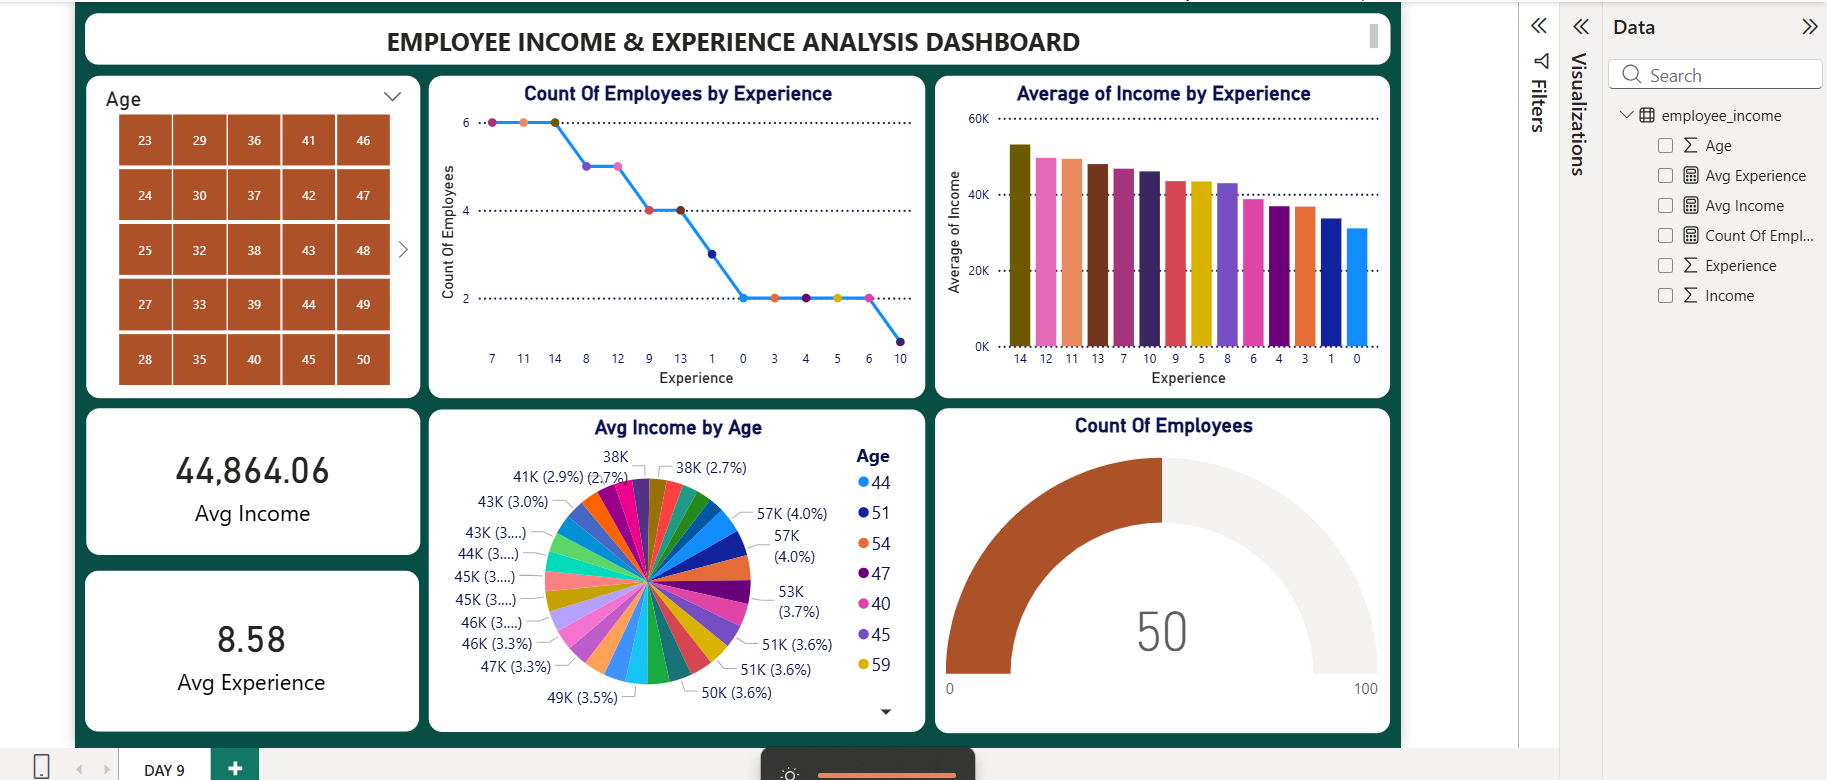

This screenshot's page, from the dashboard's own definition file:
{"tool":"powerbi","page":{"name":"DAY 9","canvas":[1280,720],"ordinal":0},"visuals":[{"type":"card","fields":{"Values":["employee_income.Avg Experience"]},"box":[9.6,548.9,322.5,155.1],"z":0},{"type":"card","fields":{"Values":["employee_income.Avg Income"]},"box":[11,392.5,322.5,141.3],"z":1000},{"type":"pieChart","fields":{"Category":["employee_income.age"],"Y":["employee_income.Avg Income"]},"box":[341.7,393.8,478.9,311.5],"z":2000},{"type":"clusteredColumnChart","fields":{"Y":["Avg(employee_income.income)"],"Category":["employee_income.experience"]},"box":[830.2,71.4,439.1,311.5],"z":3000},{"type":"gauge","fields":{"Y":["employee_income.Count Of Employees"]},"box":[830,392.1,439.1,313.7],"z":4000},{"type":"lineChart","fields":{"Y":["employee_income.Count Of Employees"],"Category":["employee_income.experience"]},"box":[341.7,71.4,478.9,311.5],"z":5000},{"type":"slicer","fields":{"Values":["employee_income.age"]},"box":[11,71.4,322.5,311.5],"z":6000},{"type":"textbox","box":[9.6,11,1259.7,49.4],"z":7000}]}

Visuals, with their boxes in screenshot pixels (x1, y1, x2, y2):
card - employee_income.Avg Experience: x1=81, y1=566, x2=414, y2=726
card - employee_income.Avg Income: x1=83, y1=405, x2=415, y2=550
pieChart - employee_income.age x employee_income.Avg Income: x1=424, y1=406, x2=917, y2=727
clusteredColumnChart - Avg(employee_income.income) x employee_income.experience: x1=927, y1=74, x2=1380, y2=395
gauge - employee_income.Count Of Employees: x1=927, y1=404, x2=1380, y2=728
lineChart - employee_income.Count Of Employees x employee_income.experience: x1=424, y1=74, x2=917, y2=395
slicer - employee_income.age: x1=83, y1=74, x2=415, y2=395
textbox: x1=81, y1=11, x2=1380, y2=62
